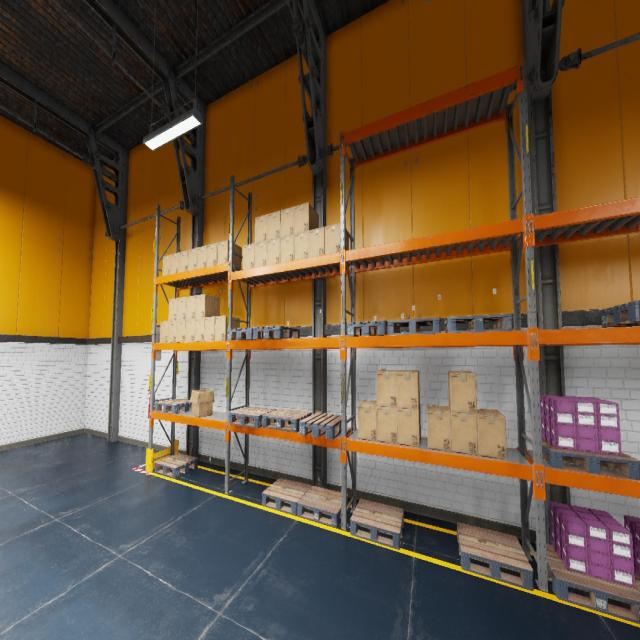box: (476, 408, 506, 459), (448, 407, 478, 455), (448, 371, 477, 414), (427, 404, 452, 452), (398, 404, 420, 447), (325, 223, 348, 262), (397, 370, 419, 409), (376, 370, 398, 407), (358, 400, 377, 441), (294, 202, 318, 234), (377, 406, 397, 444), (217, 239, 241, 268), (214, 315, 240, 341), (190, 389, 214, 417), (195, 294, 220, 318), (309, 227, 325, 257), (294, 230, 309, 260), (280, 206, 294, 236), (280, 234, 294, 263), (268, 210, 280, 240), (267, 238, 280, 265), (255, 214, 267, 243), (254, 241, 267, 267), (204, 316, 215, 342), (243, 243, 254, 269), (207, 242, 217, 266), (194, 318, 204, 341), (185, 319, 195, 342), (197, 246, 207, 268), (186, 295, 195, 319), (177, 319, 186, 342), (168, 298, 177, 321), (177, 297, 186, 319), (188, 248, 197, 270), (179, 250, 188, 272), (170, 252, 179, 274), (162, 254, 171, 276), (168, 320, 176, 342), (160, 320, 168, 342)
pallets: (535, 541, 640, 624), (457, 522, 533, 591), (542, 437, 640, 480), (350, 498, 404, 550), (297, 486, 348, 528), (262, 478, 311, 515), (299, 412, 347, 440), (444, 314, 513, 332), (262, 409, 312, 432), (154, 453, 198, 478), (228, 406, 276, 428), (600, 301, 640, 327), (387, 318, 441, 334), (347, 320, 387, 336), (253, 326, 300, 339), (155, 398, 191, 414), (228, 327, 272, 340), (634, 572, 640, 591)
